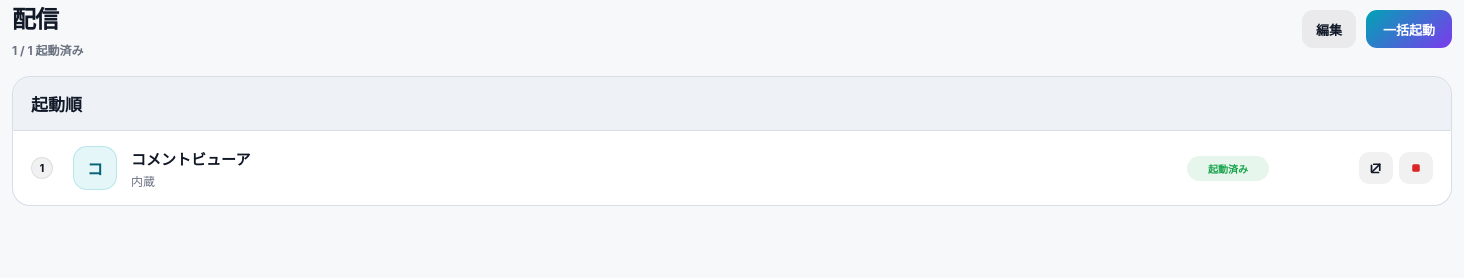
Scenario: 061b: メイン画面・内蔵コメントビューアの「停止」 › エフェクト窓が閉じていれば「停止しました」と伝える（実際に取得も止まるため）
This screenshot has width=1464, height=278.
What coordinates should you click on to do the following:
click the button titled "停止"
I would click on:
 (1416, 168)
Its box is [1399,152,1433,184].
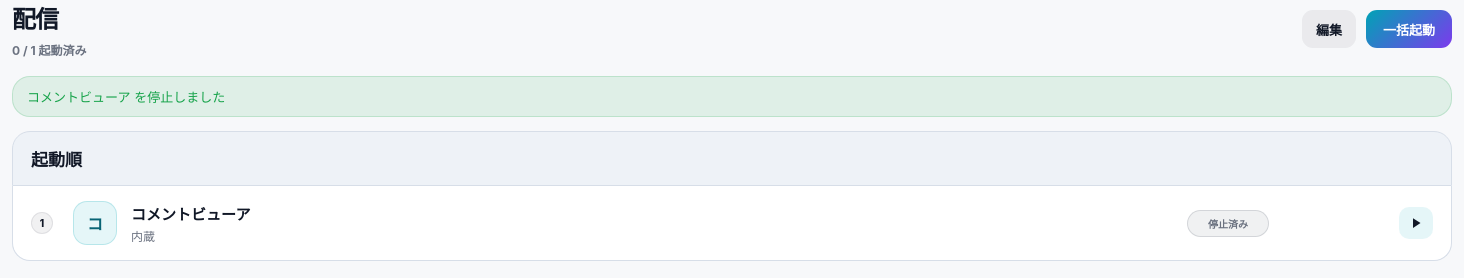
Check: the text "コメントビューア を停止しました" is shown, box [12,76,1452,117]
